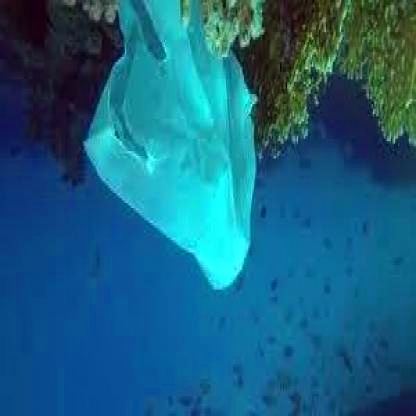pbag: (79, 3, 259, 294)
